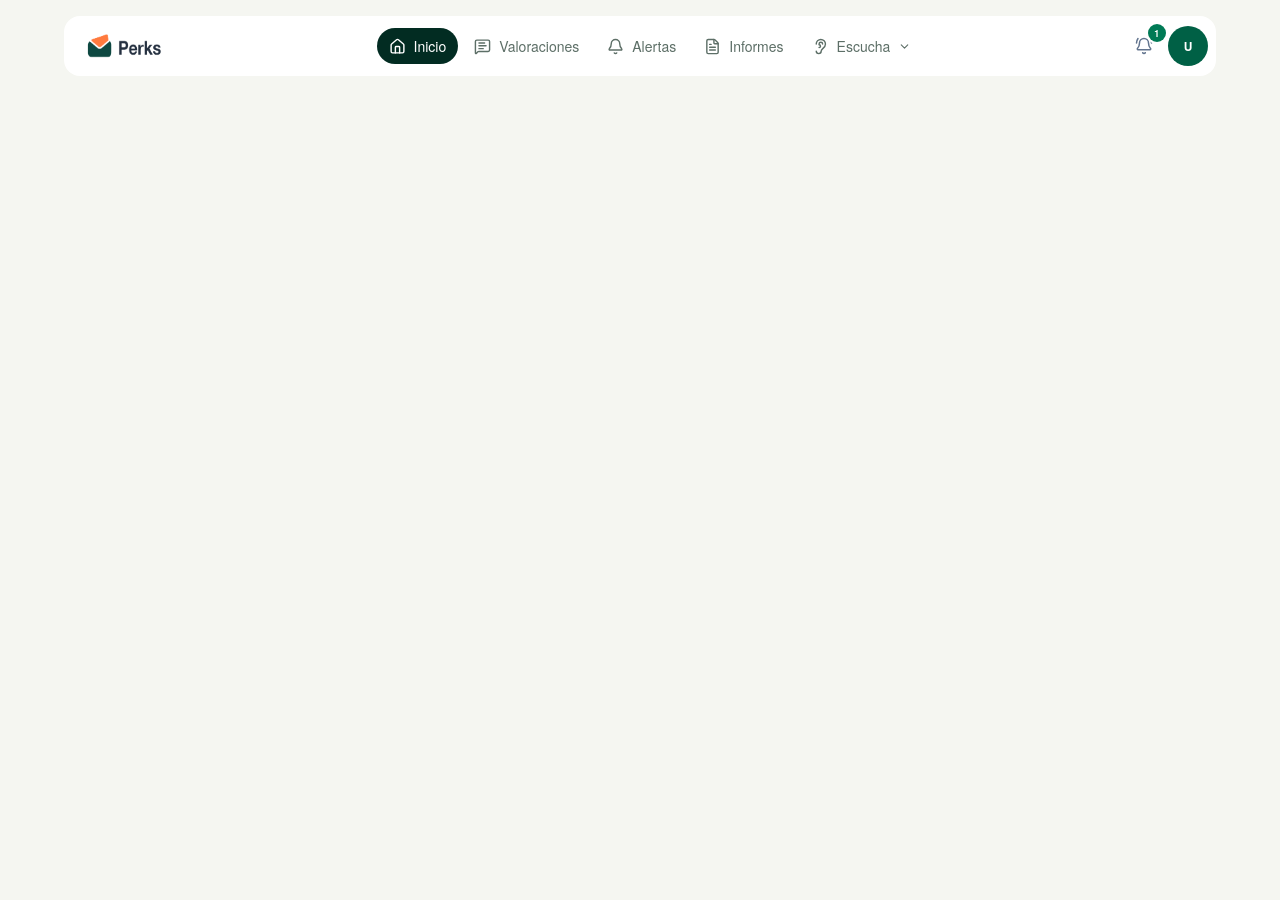
Scenario: DashboardFloatingNav › does not show delete for listening survey notifications
Click the button named "notificaciones" at (1144, 46), box left=1124, top=26, right=1164, bottom=66
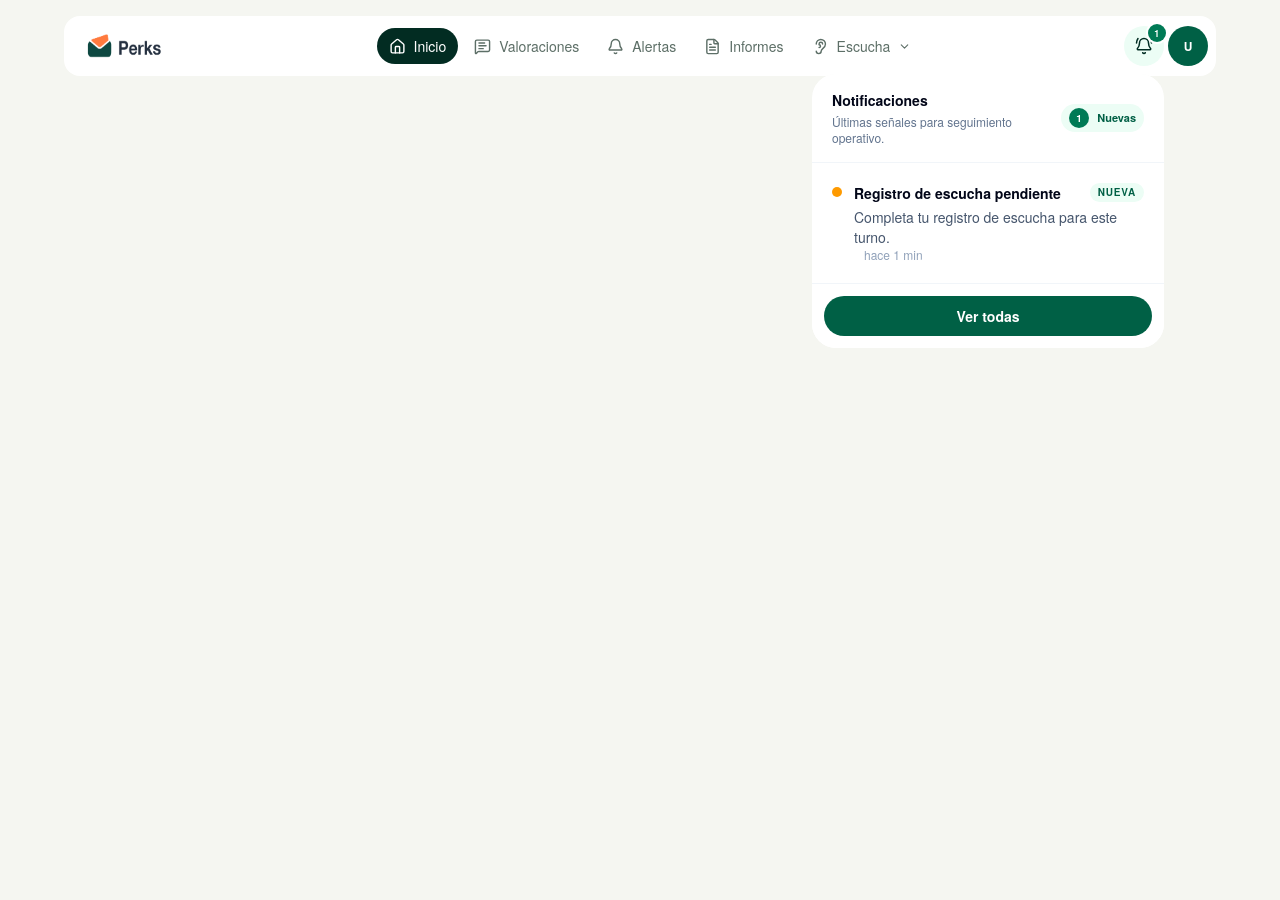
Check: the text "Registro de escucha pendiente" is shown, box left=854, top=183, right=1061, bottom=203
